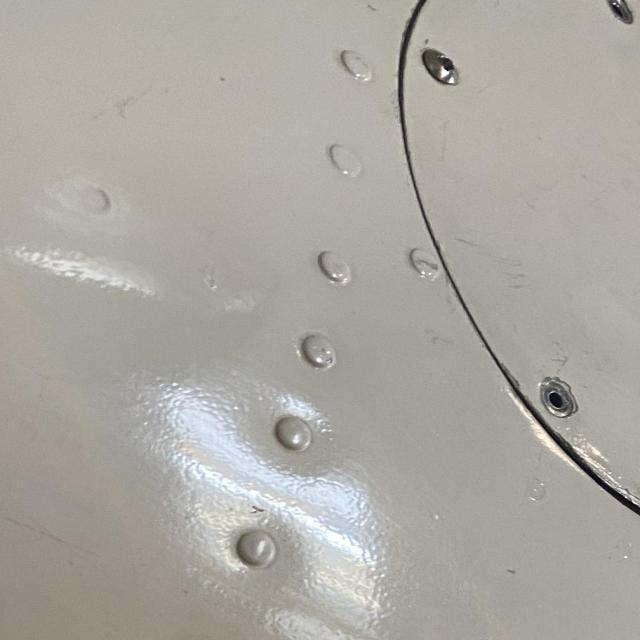Missing-head: (538, 376, 578, 416), (607, 0, 636, 21)
